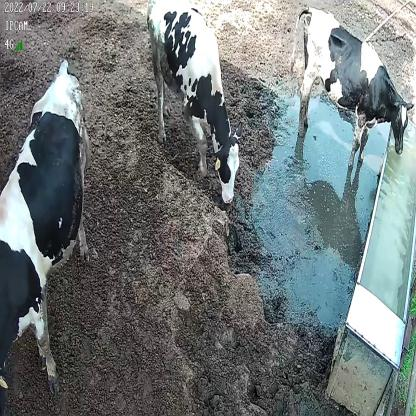cow: (0, 58, 88, 399), (289, 6, 414, 172), (145, 0, 243, 210)
